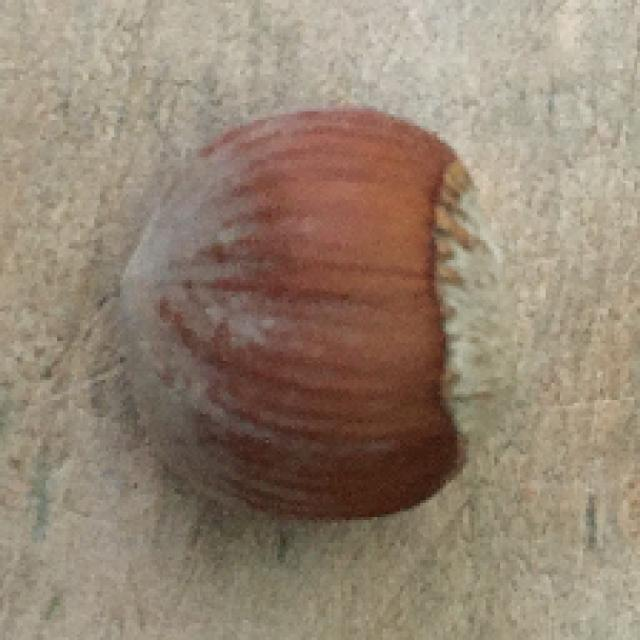QualityHazelnut: (122, 102, 527, 522)
